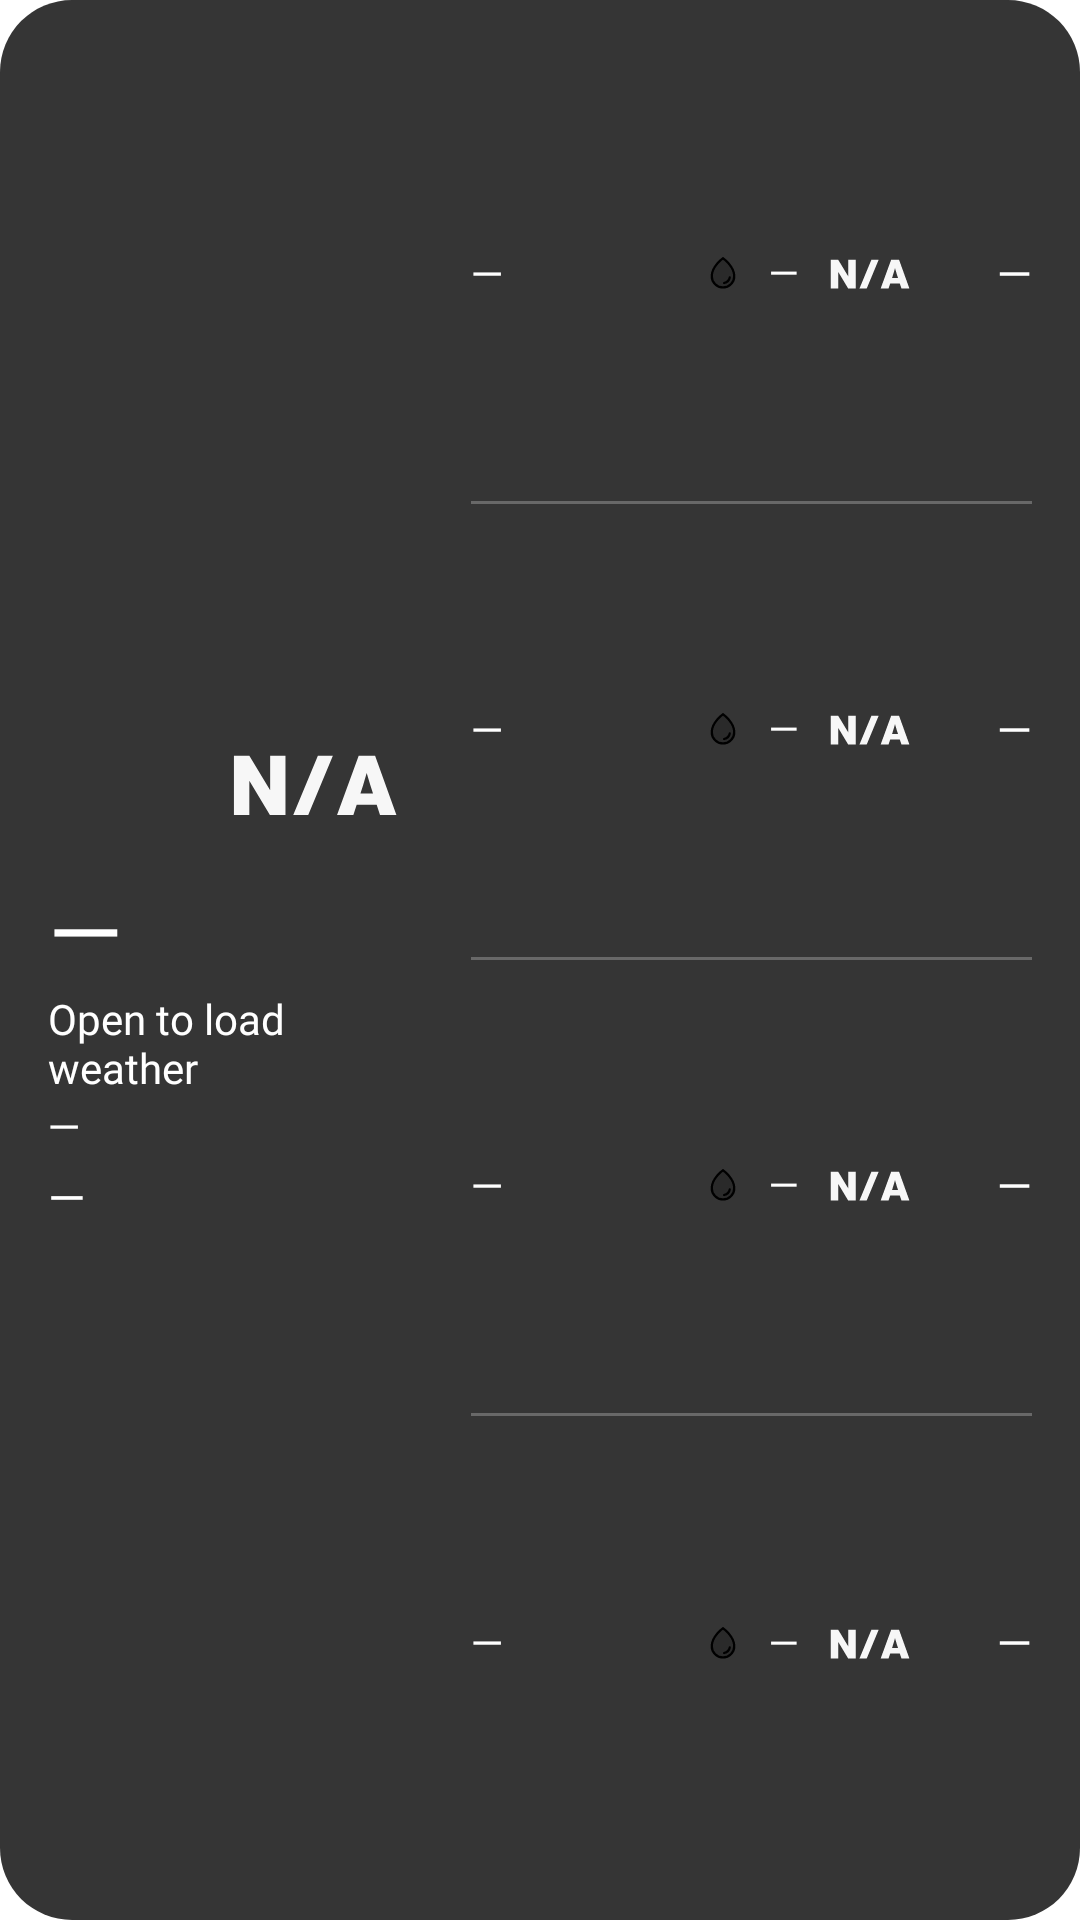

Where to tap for icons on this 1080x1920 app screen, as (x,y):
Rain chance: (723,273), (723,729), (723,1185), (723,1643)
